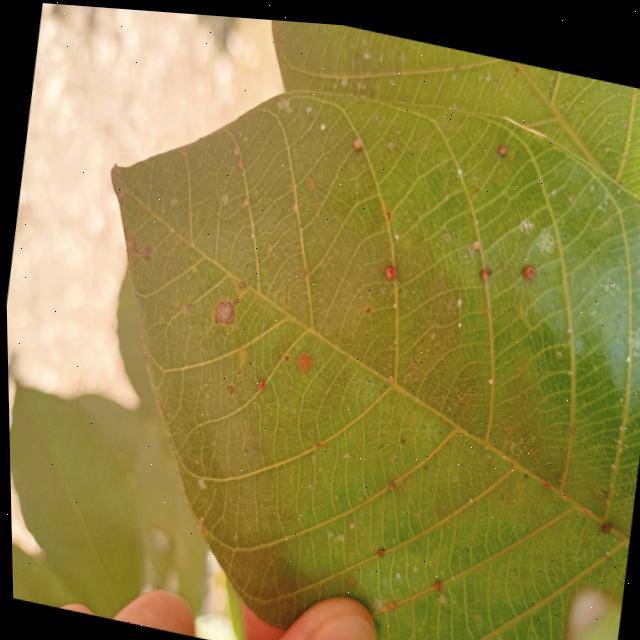Colletotrichum: (237, 278, 244, 285)
